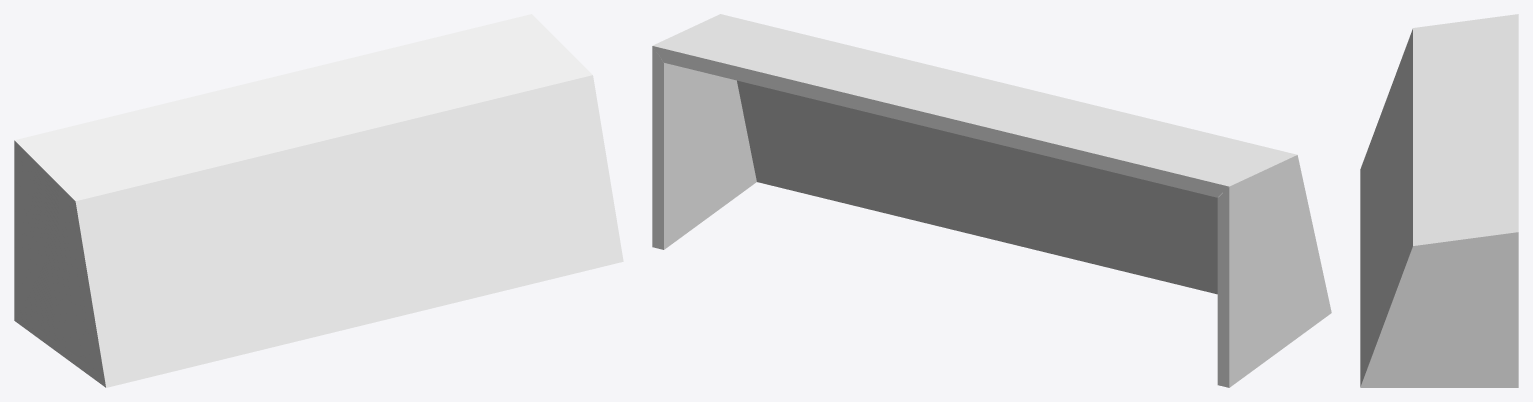
3 views of the same model, side by side, from view 1: azimuth 30°, elevation 25°; view 2: azimuth 150°, elevation 25°; view 3: azimuth 270°, elevation 25° (orthographic). The views are drawn at different scales.
Visible parts, largest first — view 1: Porteria_1; view 2: Porteria_1; view 3: Porteria_1.
Part boxes in pixels (left/top/right/bottom): Porteria_1: left=14, top=14, right=623, bottom=387; Porteria_1: left=652, top=14, right=1331, bottom=387; Porteria_1: left=1360, top=14, right=1518, bottom=387.
Bounding box in the file's own units: 7.32 × 2.44 × 2.25.
Materials: 1 (1 with a texture image).
